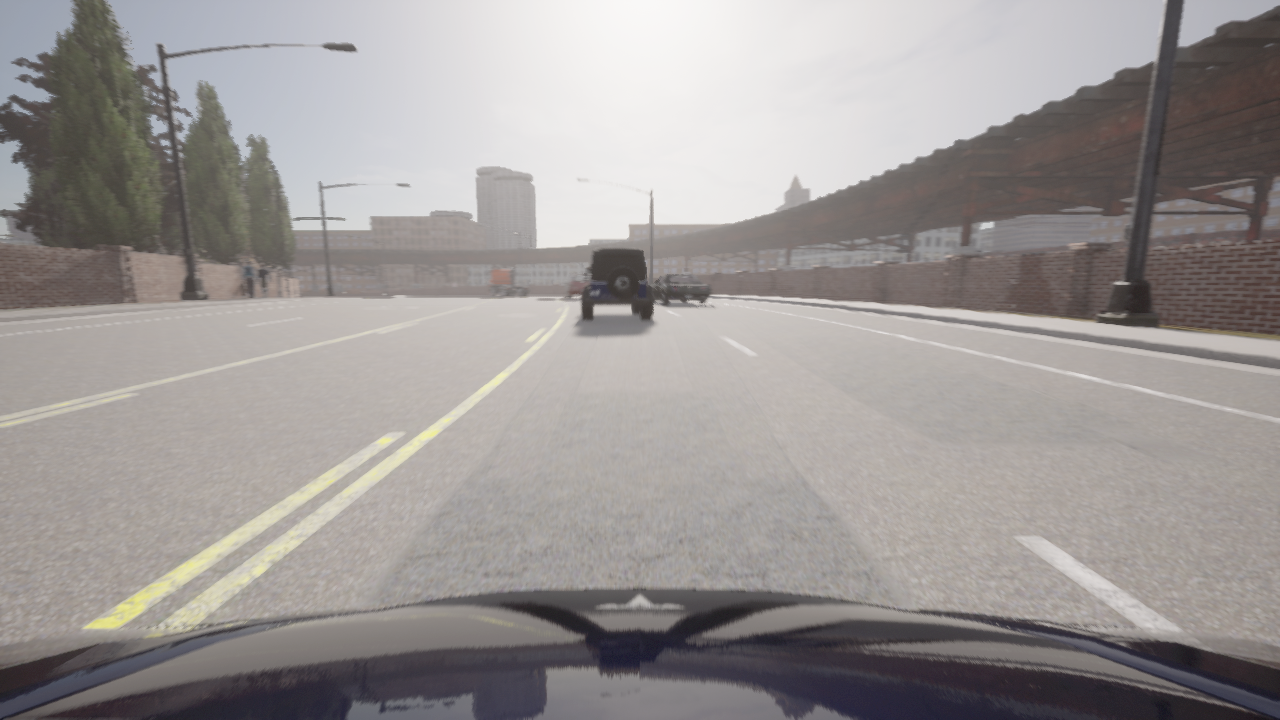cyclist: (0, 588, 1279, 719), (581, 248, 653, 319), (650, 274, 710, 304), (487, 268, 529, 296), (563, 274, 589, 298)
pedestrian: (242, 260, 257, 298), (257, 263, 271, 297)
